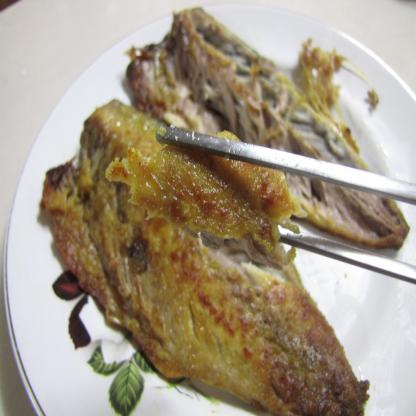Peixe: (33, 4, 404, 410), (163, 132, 286, 245)
